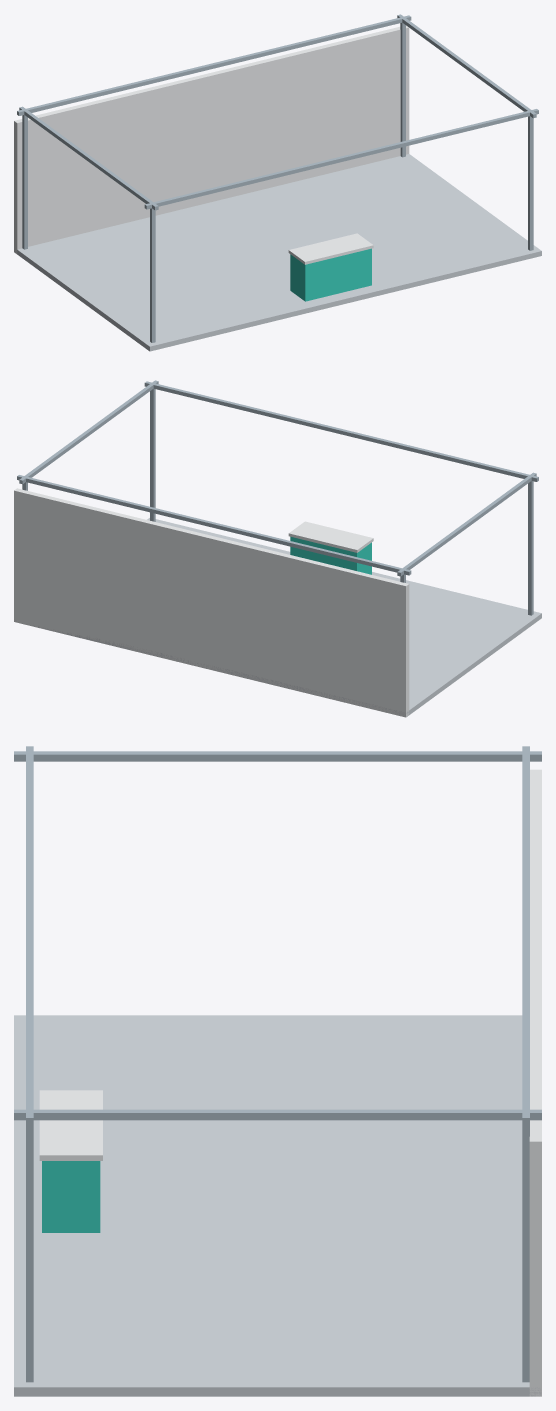
3 views of the same model, one above another, from view 1: azimuth 30°, elevation 25°; view 2: azimuth 150°, elevation 25°; view 3: azimuth 270°, elevation 25° (orthographic). The views are drawn at different scales.
Parts seen in each view (by area): view 1: Exhibition Booth Concept; view 2: Exhibition Booth Concept; view 3: Exhibition Booth Concept.
Boxes of the visible parts, left/top/right/bottom form: Exhibition Booth Concept: left=14, top=14, right=541, bottom=351; Exhibition Booth Concept: left=14, top=380, right=541, bottom=717; Exhibition Booth Concept: left=14, top=746, right=541, bottom=1396.
Bounding box in the file's own units: 10 × 3.49 × 6.
